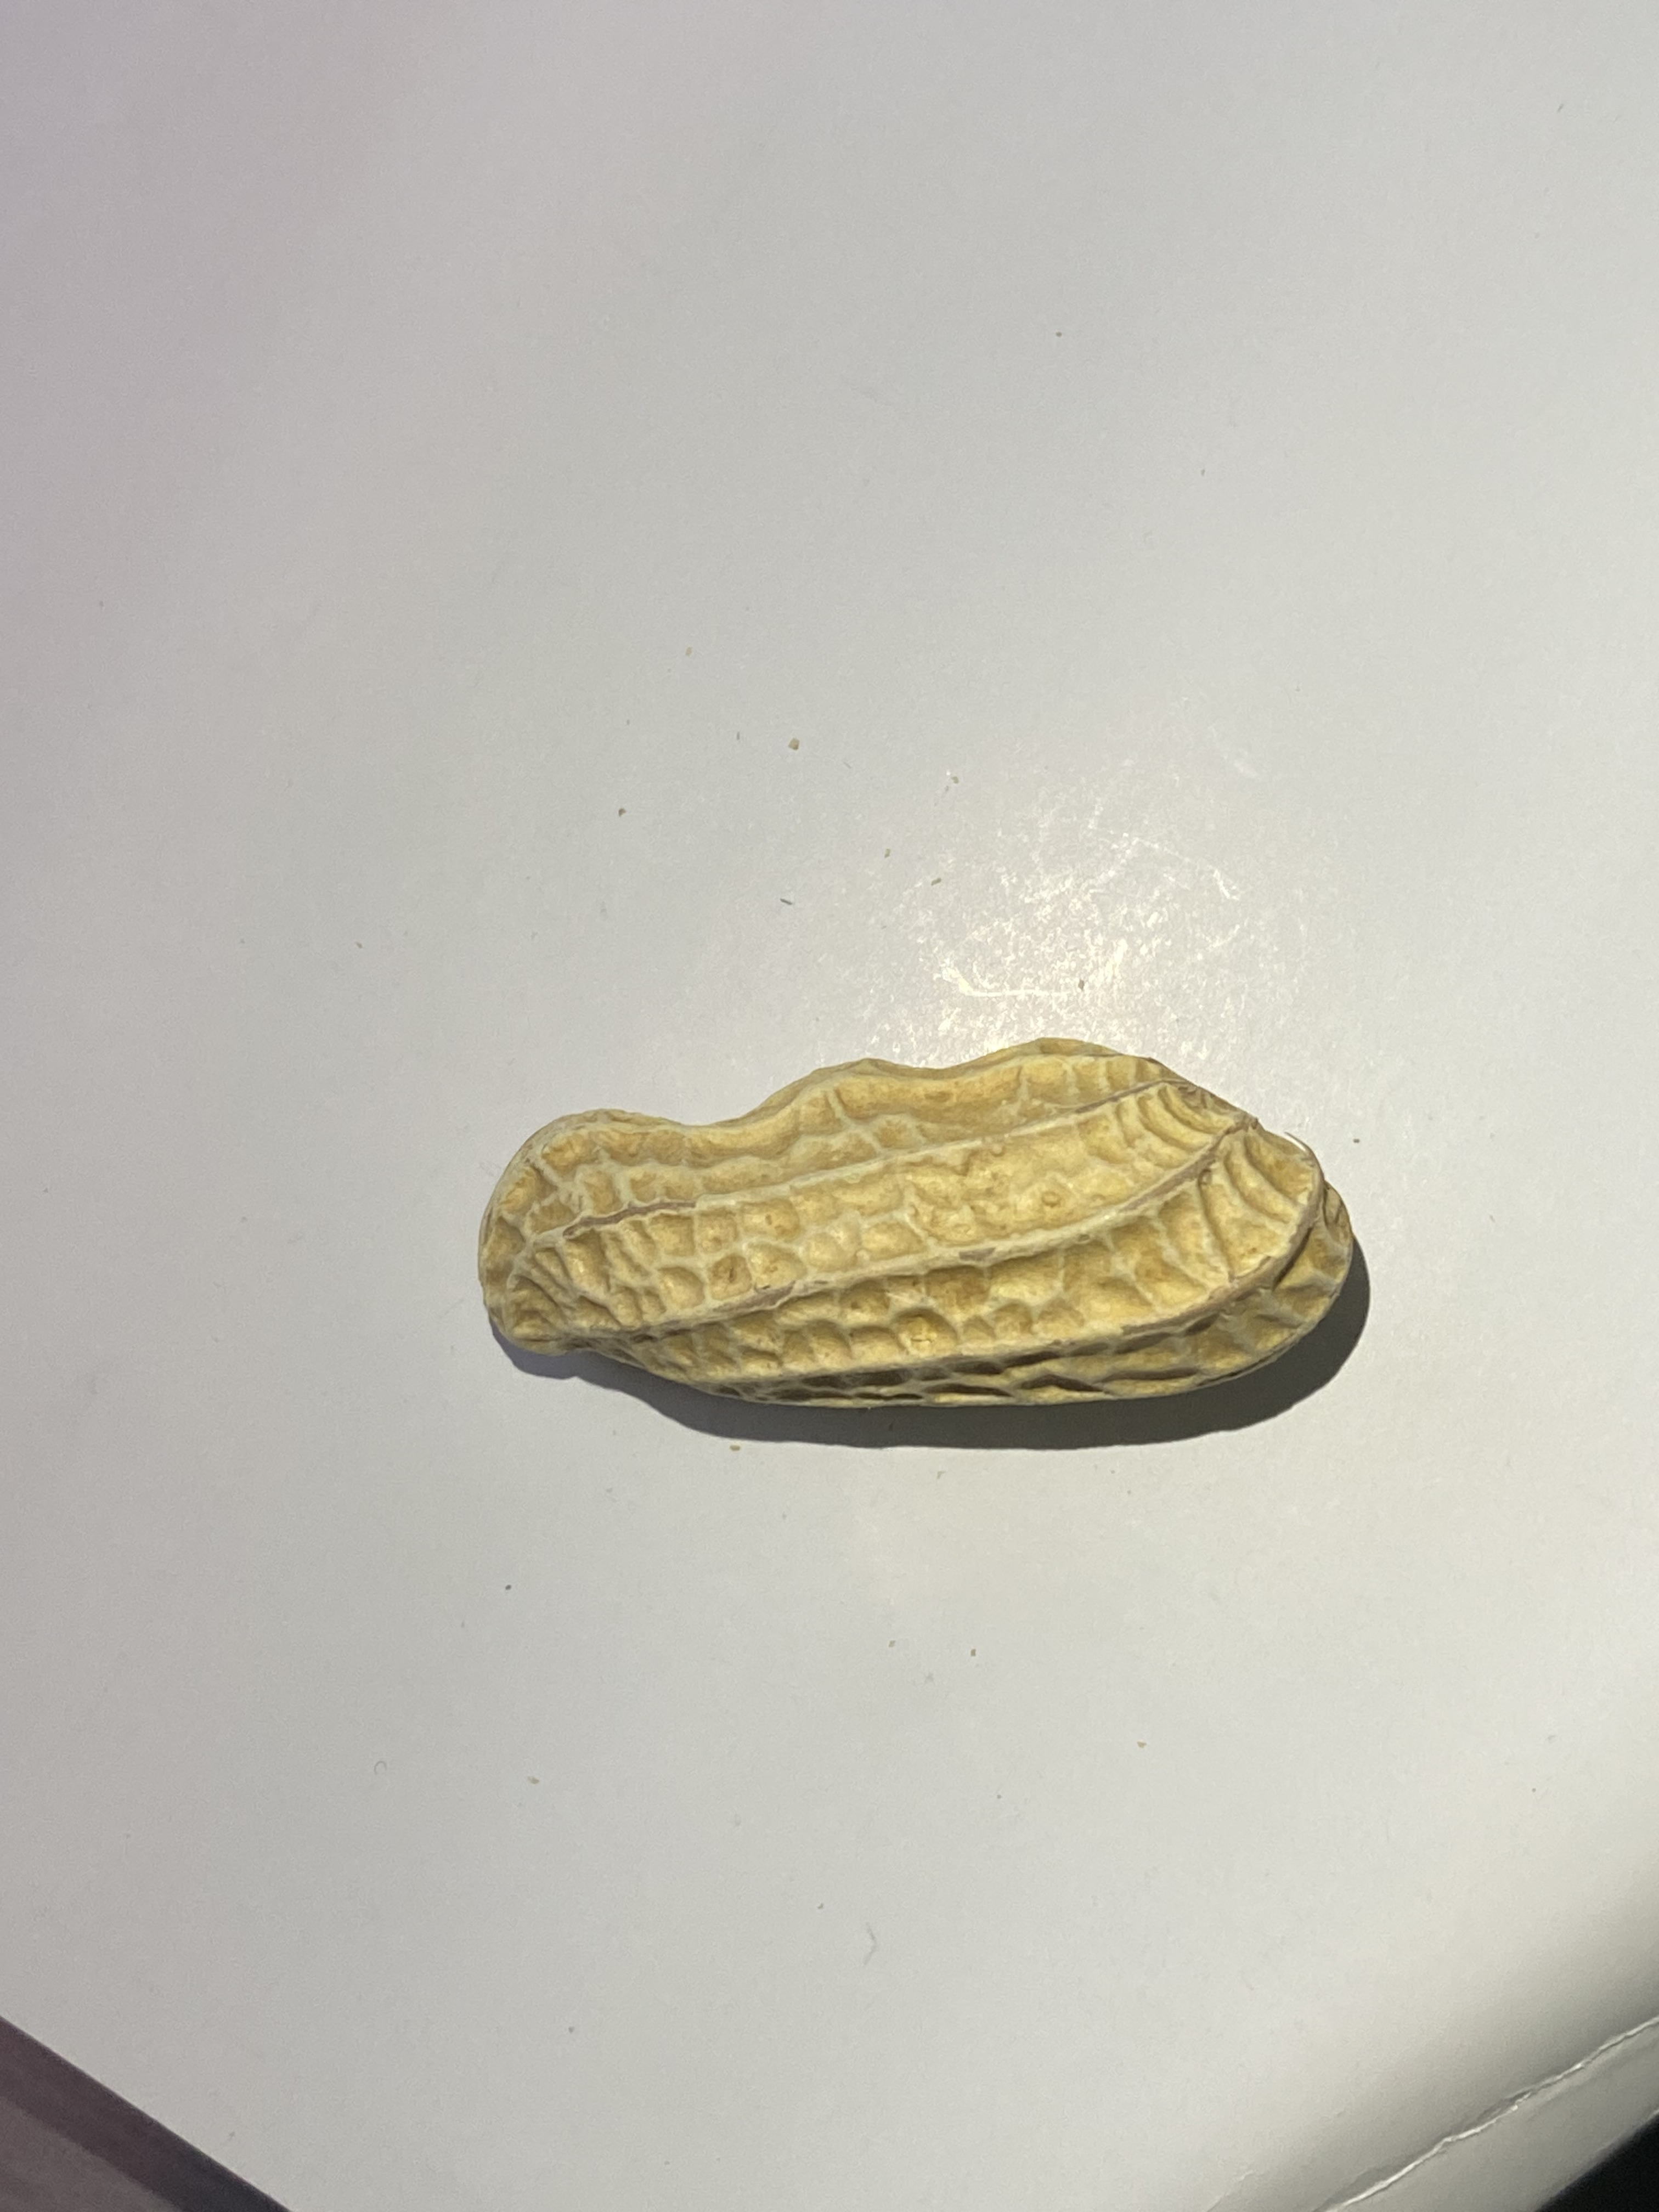kacang3: (429, 1014, 1410, 1453)
